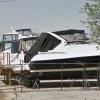Boat: (1, 22, 100, 96)
